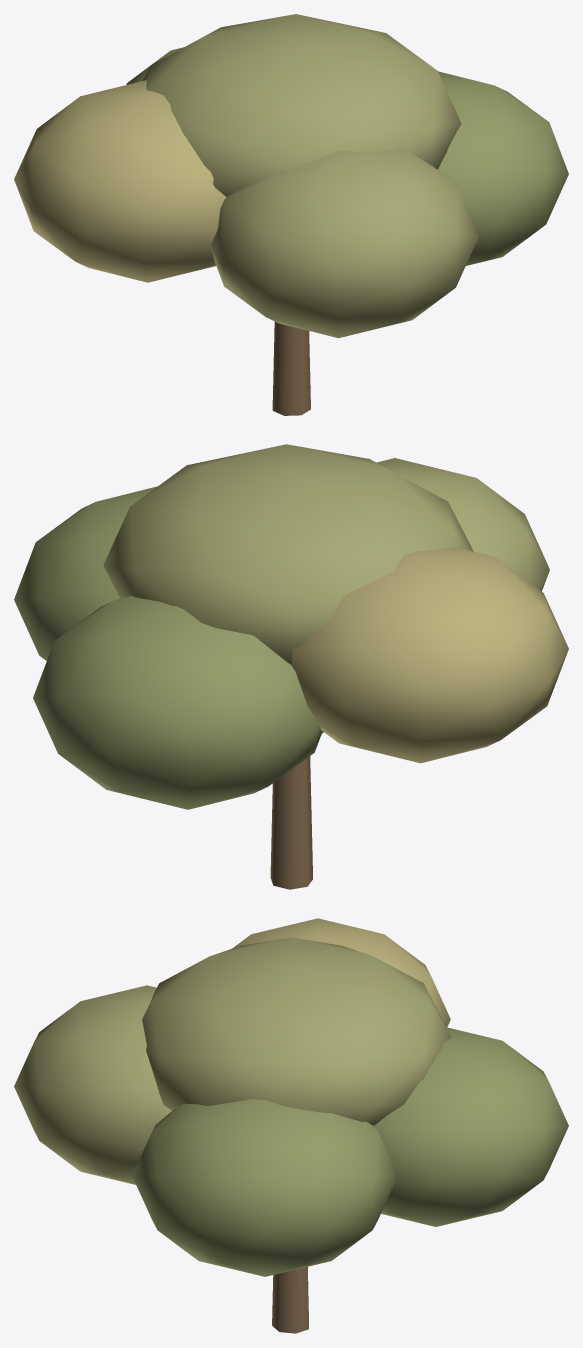
Rendered from tree-scrub.glb.
The picture shows the model from 3 angles, top to bottom: view 1: azimuth 30°, elevation 25°; view 2: azimuth 150°, elevation 25°; view 3: azimuth 270°, elevation 25°; orthographic projection. The views are drawn at different scales.
Parts seen in each view (by area): view 1: crown-6, crown-4, crown-7, crown-5, root-stem; view 2: crown-4, crown-8, crown-7, crown-5, crown-6, root-stem; view 3: crown-4, crown-5, crown-8, crown-6, crown-7, root-stem.
Boxes of the visible parts, box(x1,y1,x2,y2) form: crown-6: box(210, 148, 478, 338); crown-4: box(142, 14, 461, 196); crown-7: box(14, 80, 226, 282); crown-5: box(438, 71, 568, 265); root-stem: box(272, 321, 310, 415); crown-4: box(103, 444, 473, 664); crown-8: box(33, 596, 322, 809); crown-7: box(291, 547, 568, 763); crown-5: box(14, 486, 157, 660); crown-6: box(376, 458, 549, 591); root-stem: box(270, 756, 312, 889); crown-4: box(142, 937, 451, 1125); crown-5: box(132, 1099, 395, 1276); crown-8: box(374, 1027, 568, 1226); crown-6: box(14, 985, 171, 1184); crown-7: box(232, 918, 450, 1027); root-stem: box(272, 1267, 308, 1333).
Size of the model in its own units: 5.46 by 3.9 by 5.41.
